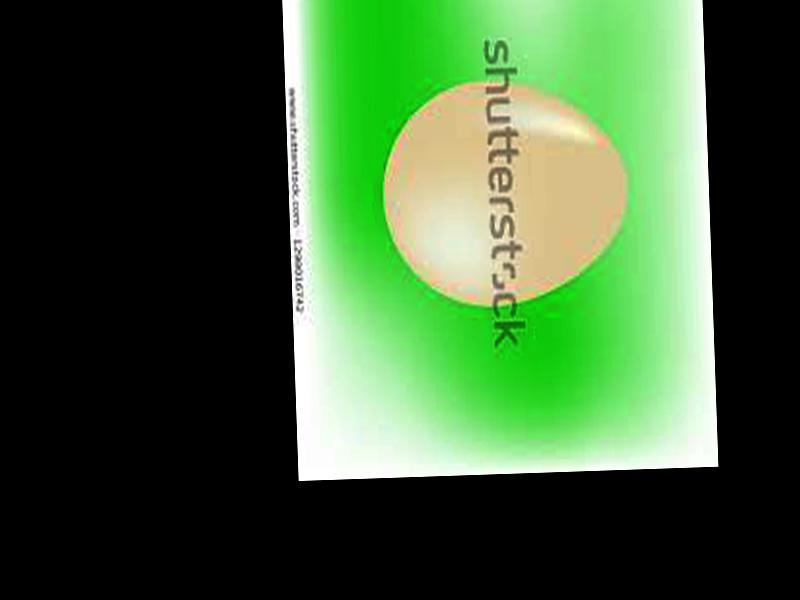Eggs: (380, 77, 631, 310)
